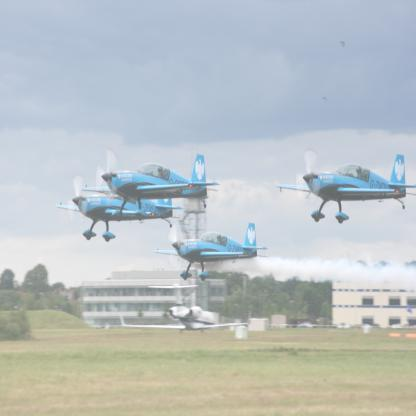aircraft: (273, 154, 416, 223), (98, 152, 222, 222), (153, 222, 268, 280), (58, 193, 175, 242)
